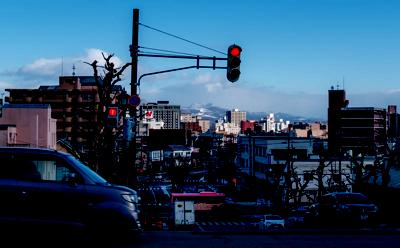International Road Signal Light: (226, 41, 243, 83), (106, 105, 120, 130)
